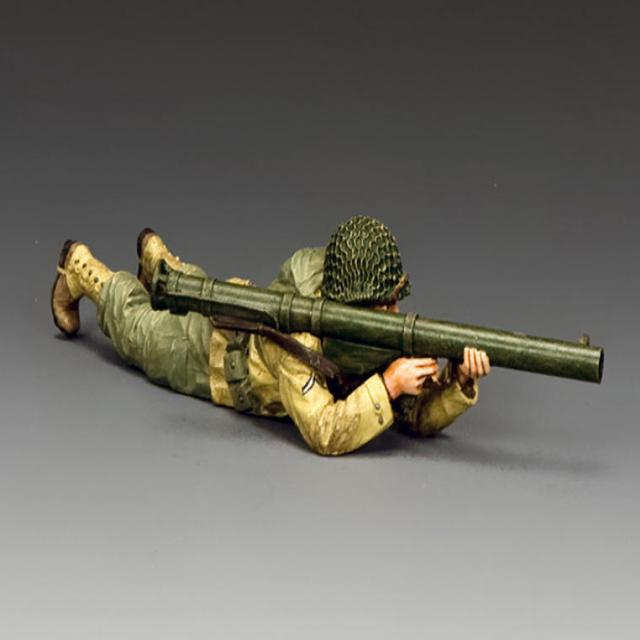Weapon: (151, 265, 603, 383)
